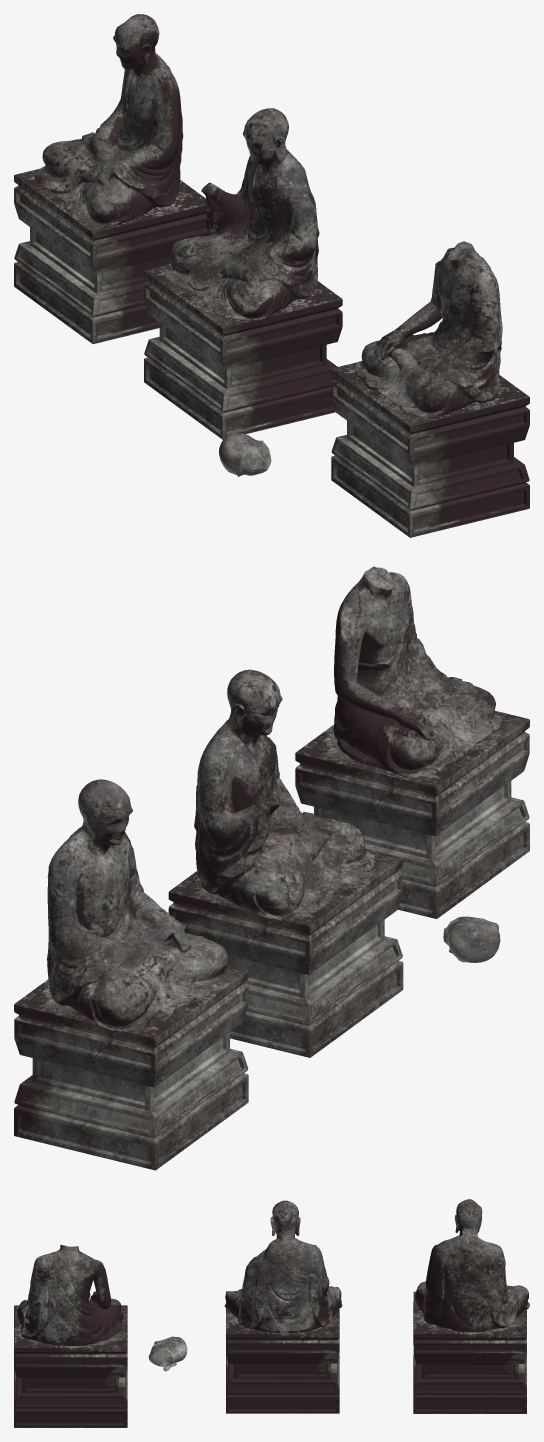
File: monk_statue.glb
The picture shows the model from 3 angles, top to bottom: view 1: azimuth 30°, elevation 25°; view 2: azimuth 150°, elevation 25°; view 3: azimuth 270°, elevation 25°; orthographic projection. The views are drawn at different scales.
Parts seen in each view (by area): view 1: CTI Monk Statue 02.Shape, CTI Monk Statue 01.Shape, CTI Monk Statue 03.Shape; view 2: CTI Monk Statue 03.Shape, CTI Monk Statue 02.Shape, CTI Monk Statue 01.Shape; view 3: CTI Monk Statue 01.Shape, CTI Monk Statue 03.Shape, CTI Monk Statue 02.Shape.
Part boxes in pixels (x1,y1,x2,y2): CTI Monk Statue 02.Shape: (144,108,342,439); CTI Monk Statue 01.Shape: (219,241,529,537); CTI Monk Statue 03.Shape: (14,14,211,343); CTI Monk Statue 03.Shape: (14,779,248,1170); CTI Monk Statue 02.Shape: (168,669,403,1057); CTI Monk Statue 01.Shape: (295,566,529,962); CTI Monk Statue 01.Shape: (14,1244,187,1427); CTI Monk Statue 03.Shape: (413,1199,529,1413); CTI Monk Statue 02.Shape: (224,1200,342,1413).
Bounding box in the file's own units: 1.82 × 2.43 × 5.66.
Materials: 3 (3 with a texture image).
